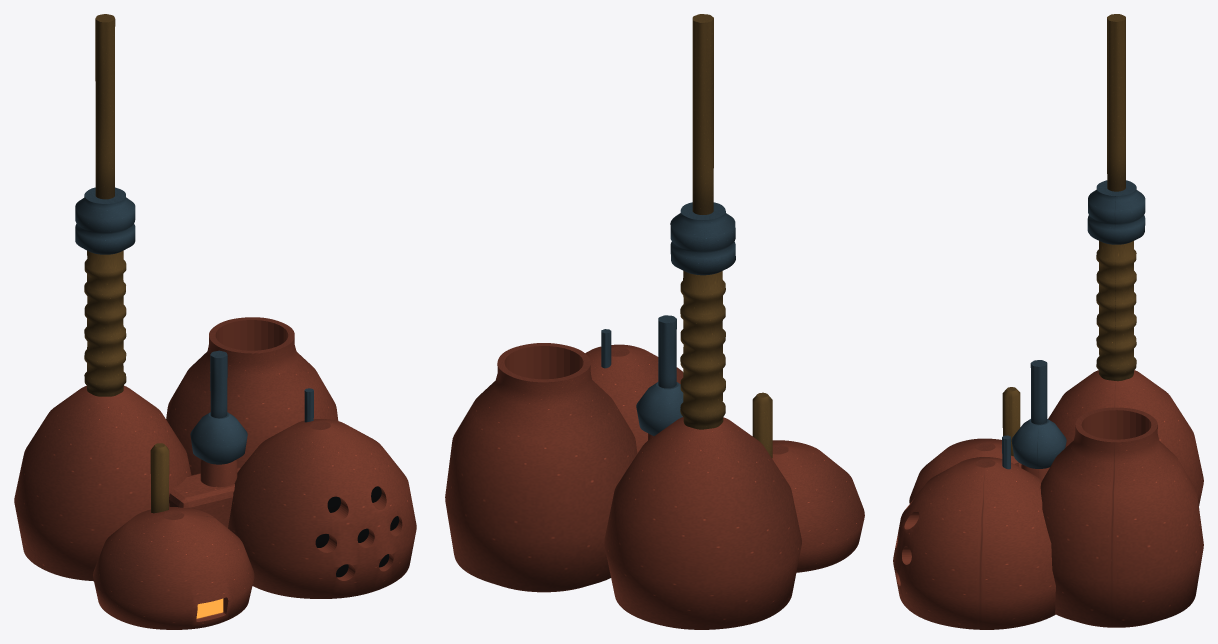
3 renders of one model, left to right at view 1: azimuth 30°, elevation 25°; view 2: azimuth 150°, elevation 25°; view 3: azimuth 270°, elevation 25°, orthographic. The views are drawn at different scales.
Parts seen in each view (by area): view 1: AC14 right foreground field chamber, AC14 left rear mast chamber, AC14 left foreground chamber, AC14 open rear launch chamber, AC14 ochre lower mast, AC14 ochre upper mast, AC14 slate mast collar, AC14 short slate bulb, AC14 connected interstitial casting, AC14 short ochre fore fitting, AC14 short slate post, AC14 short slate pedestal; view 2: AC14 open rear launch chamber, AC14 left rear mast chamber, AC14 left foreground chamber, AC14 ochre lower mast, AC14 ochre upper mast, AC14 slate mast collar, AC14 right foreground field chamber, AC14 short slate bulb, AC14 short slate post, AC14 short ochre fore fitting; view 3: AC14 open rear launch chamber, AC14 right foreground field chamber, AC14 left rear mast chamber, AC14 ochre lower mast, AC14 ochre upper mast, AC14 slate mast collar, AC14 short slate bulb, AC14 left foreground chamber, AC14 short slate post, AC14 short ochre fore fitting.
Part boxes in pixels (bbox=[...]): AC14 right foreground field chamber: bbox=[228, 419, 416, 598]; AC14 left rear mast chamber: bbox=[14, 385, 191, 581]; AC14 left foreground chamber: bbox=[93, 507, 254, 629]; AC14 open rear launch chamber: bbox=[166, 317, 338, 475]; AC14 ochre lower mast: bbox=[84, 250, 126, 396]; AC14 ochre upper mast: bbox=[95, 14, 115, 199]; AC14 slate mast collar: bbox=[75, 187, 135, 254]; AC14 short slate bulb: bbox=[190, 412, 247, 464]; AC14 connected interstitial casting: bbox=[169, 468, 239, 527]; AC14 short ochre fore fitting: bbox=[150, 443, 169, 513]; AC14 short slate post: bbox=[210, 350, 227, 418]; AC14 short slate pedestal: bbox=[200, 459, 237, 487]; AC14 open rear launch chamber: bbox=[445, 343, 637, 592]; AC14 left rear mast chamber: bbox=[604, 417, 801, 629]; AC14 left foreground chamber: bbox=[772, 440, 864, 572]; AC14 ochre lower mast: bbox=[680, 271, 725, 429]; AC14 ochre upper mast: bbox=[692, 14, 713, 214]; AC14 slate mast collar: bbox=[670, 202, 735, 275]; AC14 right foreground field chamber: bbox=[585, 344, 683, 451]; AC14 short slate bulb: bbox=[636, 382, 683, 435]; AC14 short slate post: bbox=[658, 315, 676, 388]; AC14 short ochre fore fitting: bbox=[752, 392, 772, 458]; AC14 open rear launch chamber: bbox=[1040, 407, 1203, 627]; AC14 right foreground field chamber: bbox=[893, 457, 1055, 629]; AC14 left rear mast chamber: bbox=[1048, 370, 1203, 505]; AC14 ochre lower mast: bbox=[1096, 241, 1136, 381]; AC14 ochre upper mast: bbox=[1107, 14, 1125, 191]; AC14 slate mast collar: bbox=[1087, 180, 1145, 244]; AC14 short slate bulb: bbox=[1011, 419, 1066, 468]; AC14 left foreground chamber: bbox=[909, 438, 1018, 503]; AC14 short slate post: bbox=[1030, 360, 1047, 424]; AC14 short ochre fore fitting: bbox=[1002, 387, 1020, 456].
Size of the model in its own units: 2.74 by 4.55 by 2.49.
5 materials, 4 textured.
